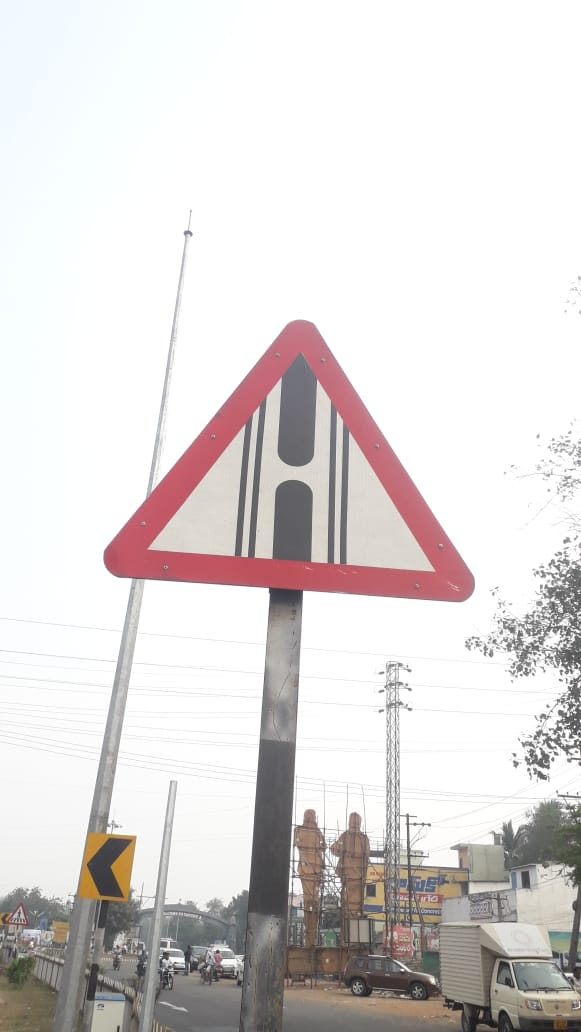highway go straight: (109, 293, 480, 640)
